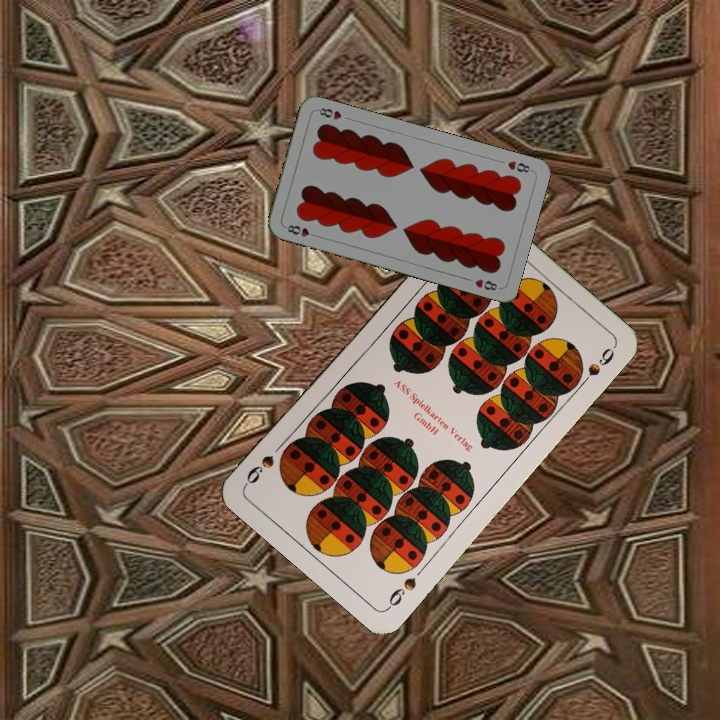H8: (281, 221, 321, 240), (503, 157, 535, 175)
S9: (383, 573, 419, 612)
